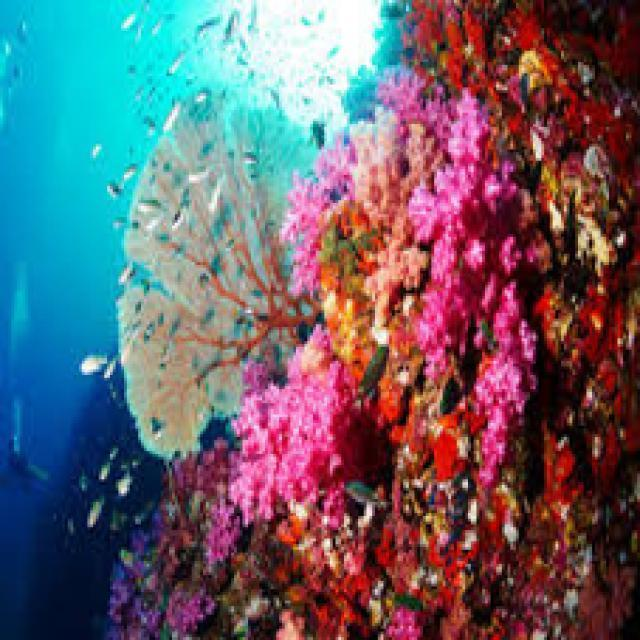Healthy: (523, 8, 633, 616), (421, 101, 521, 478), (241, 519, 514, 638), (234, 337, 357, 518), (115, 467, 242, 632), (343, 126, 421, 353), (194, 244, 321, 342)
